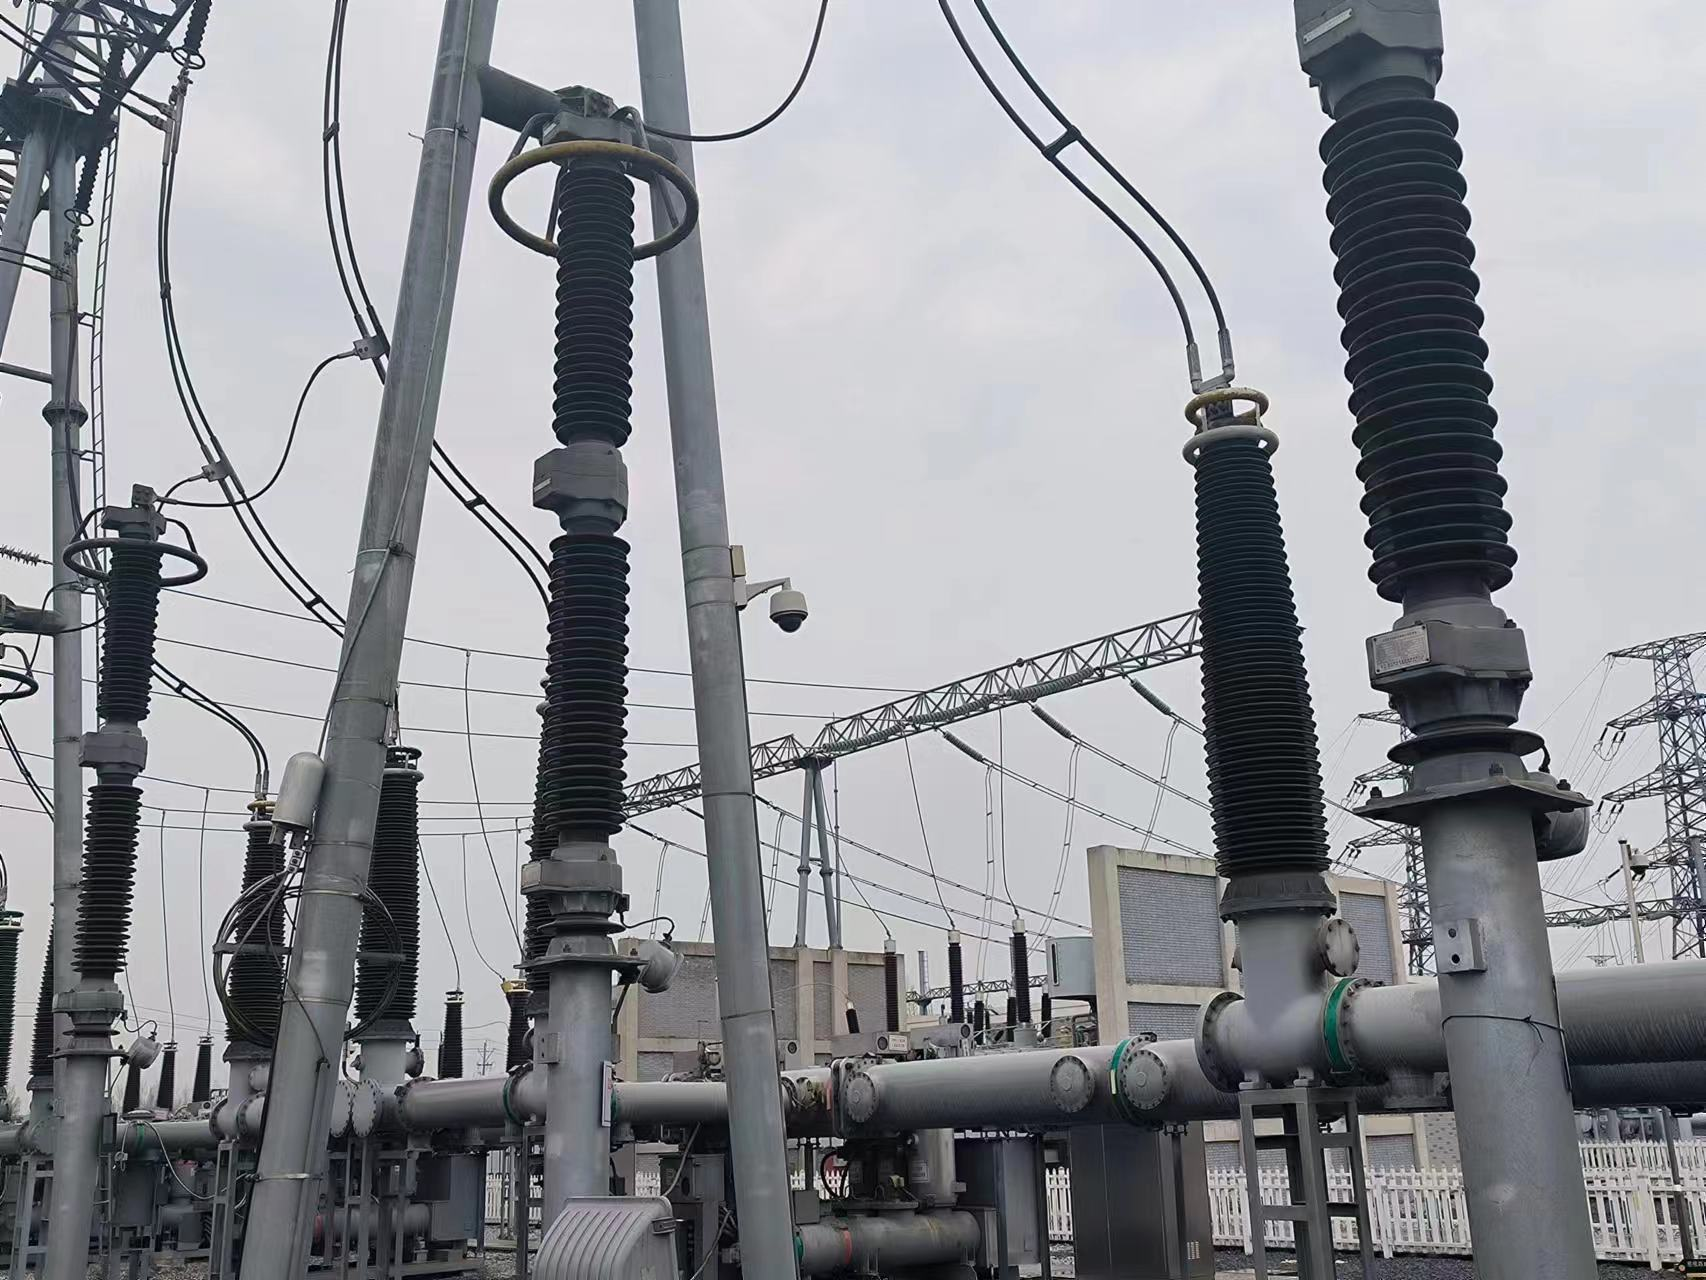Arrester: (479, 102, 707, 861), (52, 493, 208, 982)
Voltage transformer: (1183, 387, 1339, 877)
